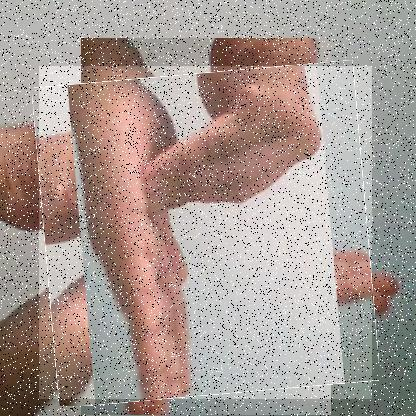Z: (39, 66, 373, 400)
